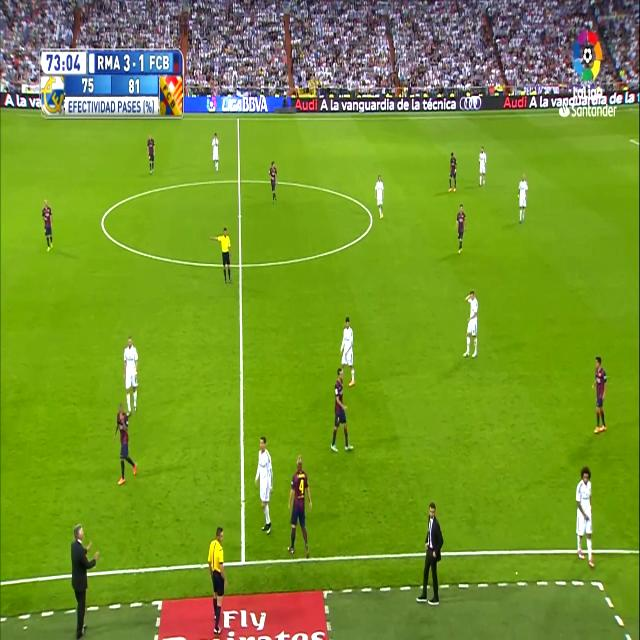halfcircle_bottom: (234, 251, 246, 276)
halfcircle_top: (234, 169, 244, 190)
midline_bottom_intersection: (235, 546, 251, 570)
midline_top_intersection: (235, 113, 241, 123)
